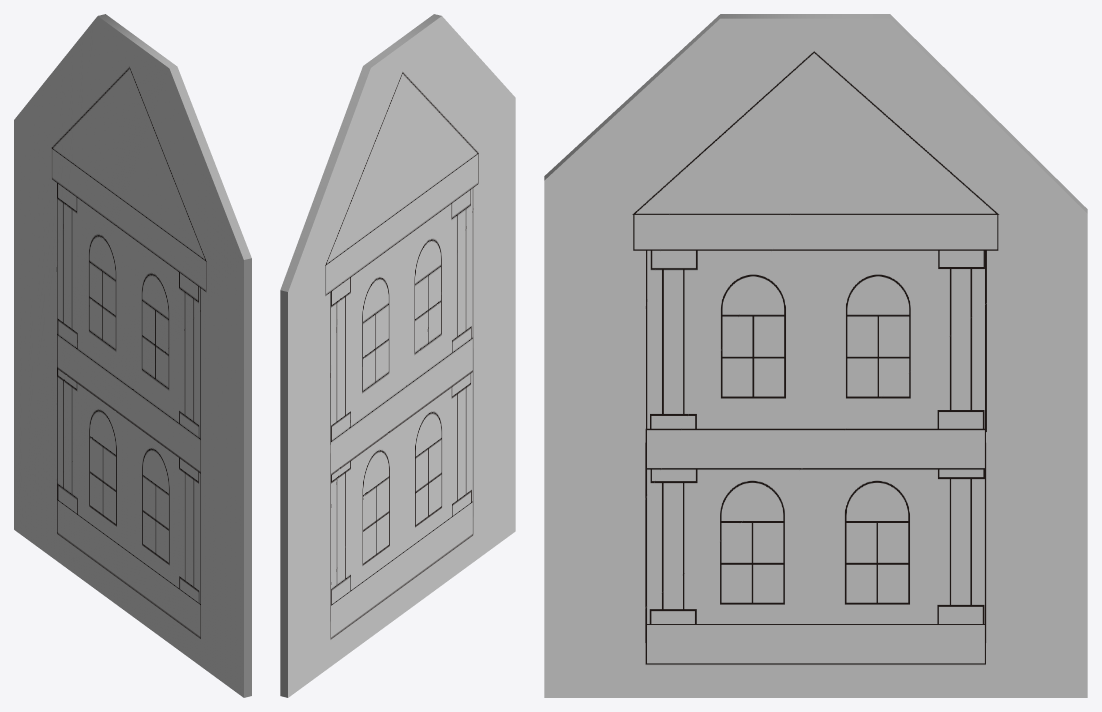
Rendered from house2.fbx.
3 renders of one model, left to right at view 1: azimuth 30°, elevation 25°; view 2: azimuth 150°, elevation 25°; view 3: azimuth 270°, elevation 25°, orthographic. The views are drawn at different scales.
Visible parts, largest first — view 1: pCube1; view 2: pCube1; view 3: pCube1.
Boxes of the visible parts, bbox=[...] form: pCube1: bbox=[14, 14, 251, 697]; pCube1: bbox=[280, 14, 515, 697]; pCube1: bbox=[544, 14, 1087, 697].
Size of the model in its own units: 0.1 by 6.9 by 5.
2 materials, 1 textured.
